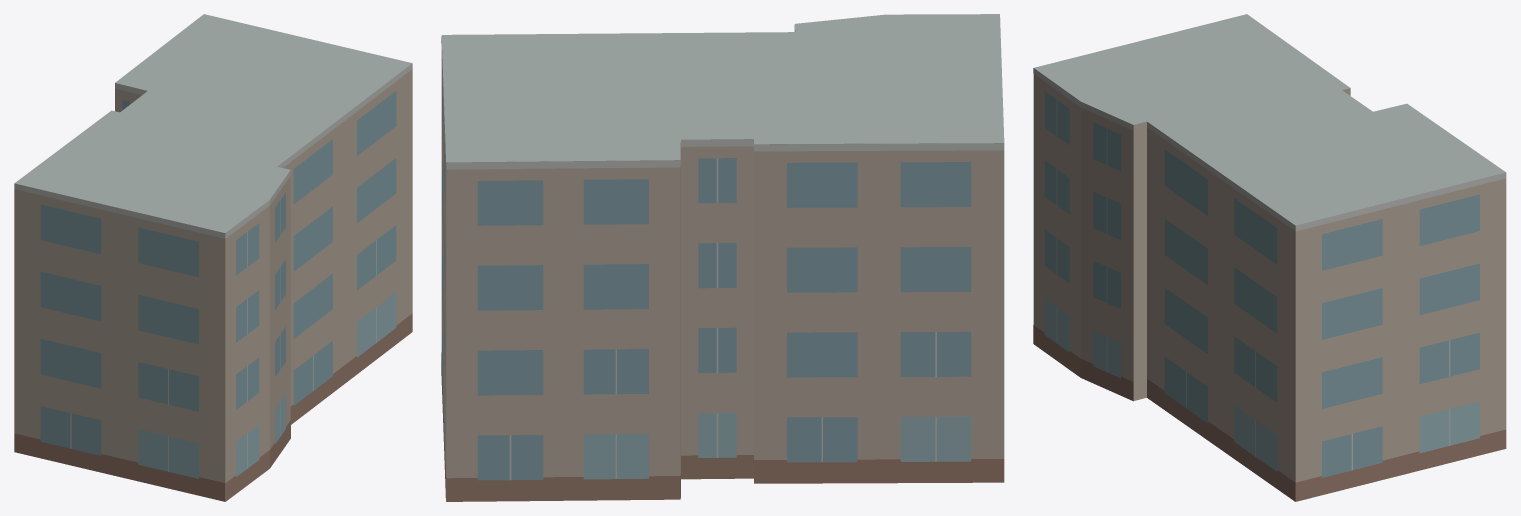
The model's file is survey-upis-32936686.glb.
The picture shows the model from 3 angles, left to right: view 1: azimuth 30°, elevation 25°; view 2: azimuth 150°, elevation 25°; view 3: azimuth 270°, elevation 25°; orthographic projection. The views are drawn at different scales.
Parts seen in each view (by area): view 1: survey-upis-32936686.tmp; view 2: survey-upis-32936686.tmp; view 3: survey-upis-32936686.tmp.
Part boxes in pixels (<box>): survey-upis-32936686.tmp: <box>14,14,412,501</box>; survey-upis-32936686.tmp: <box>441,14,1004,501</box>; survey-upis-32936686.tmp: <box>1033,14,1506,501</box>.
Bounding box in the file's own units: 18.9 × 11.5 × 17.84.
